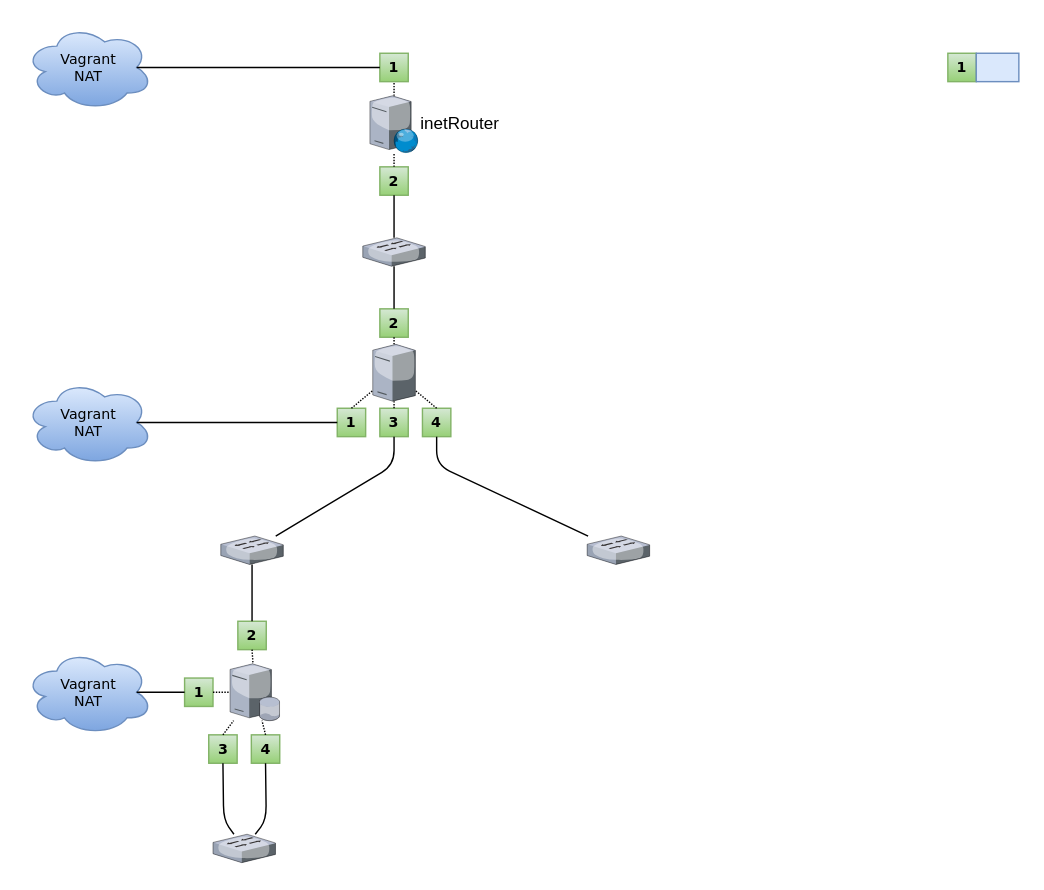
Image size: 1044x890. Some labels were removed from this diagram. Here are the shapes that lost their labels. From the top down, the centre of each, then its label:
At (997,67): "ethX".
At (393,251): "VirtualBox router-net".
At (393,372): "centralRouter".
At (251,549): "VirtualBox dir-net".
At (617,549): "VirtualBox hw-net".
At (254,691): "centralServer".
At (243,848): "VirtualBox intnet".
